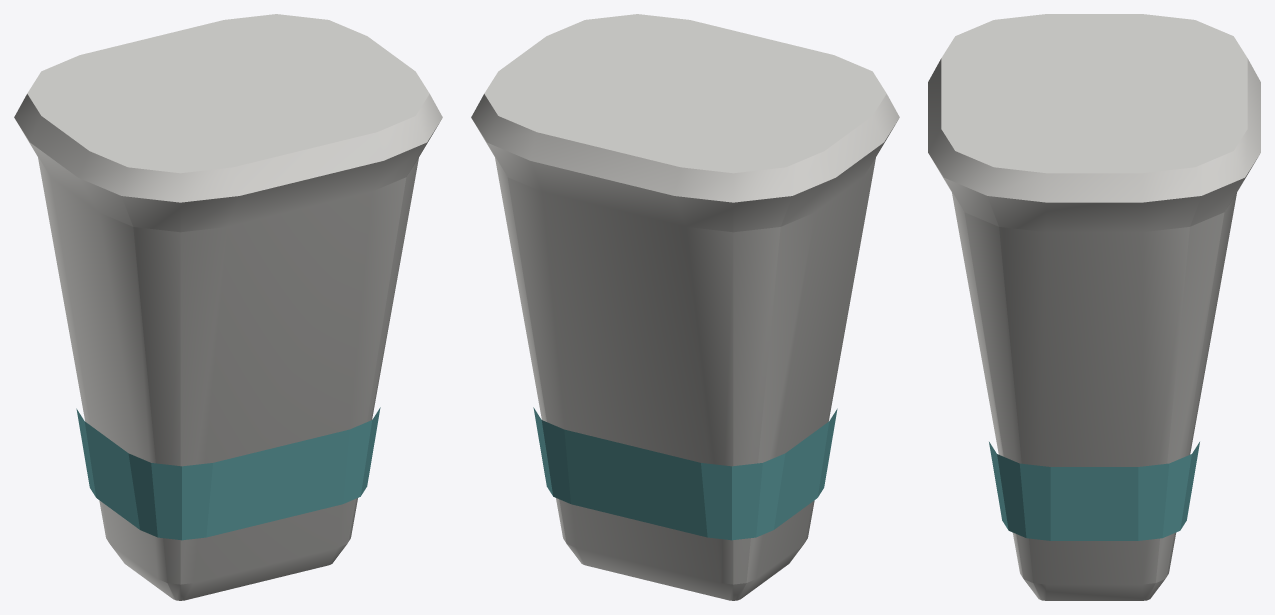
Rendered from fast-food-and-drive-thru-fry-carton-small-cad74513__16161.glb.
3 views of the same model, side by side, from view 1: azimuth 30°, elevation 25°; view 2: azimuth 150°, elevation 25°; view 3: azimuth 270°, elevation 25° (orthographic).
Parts seen in each view (by area): view 1: fry-carton-small; view 2: fry-carton-small; view 3: fry-carton-small.
Boxes of the visible parts, box(x1,y1,x2,y2) form: fry-carton-small: box(14, 14, 442, 600); fry-carton-small: box(471, 14, 899, 600); fry-carton-small: box(928, 14, 1260, 600).
Bounding box in the file's own units: 0.092 × 0.118 × 0.076.
